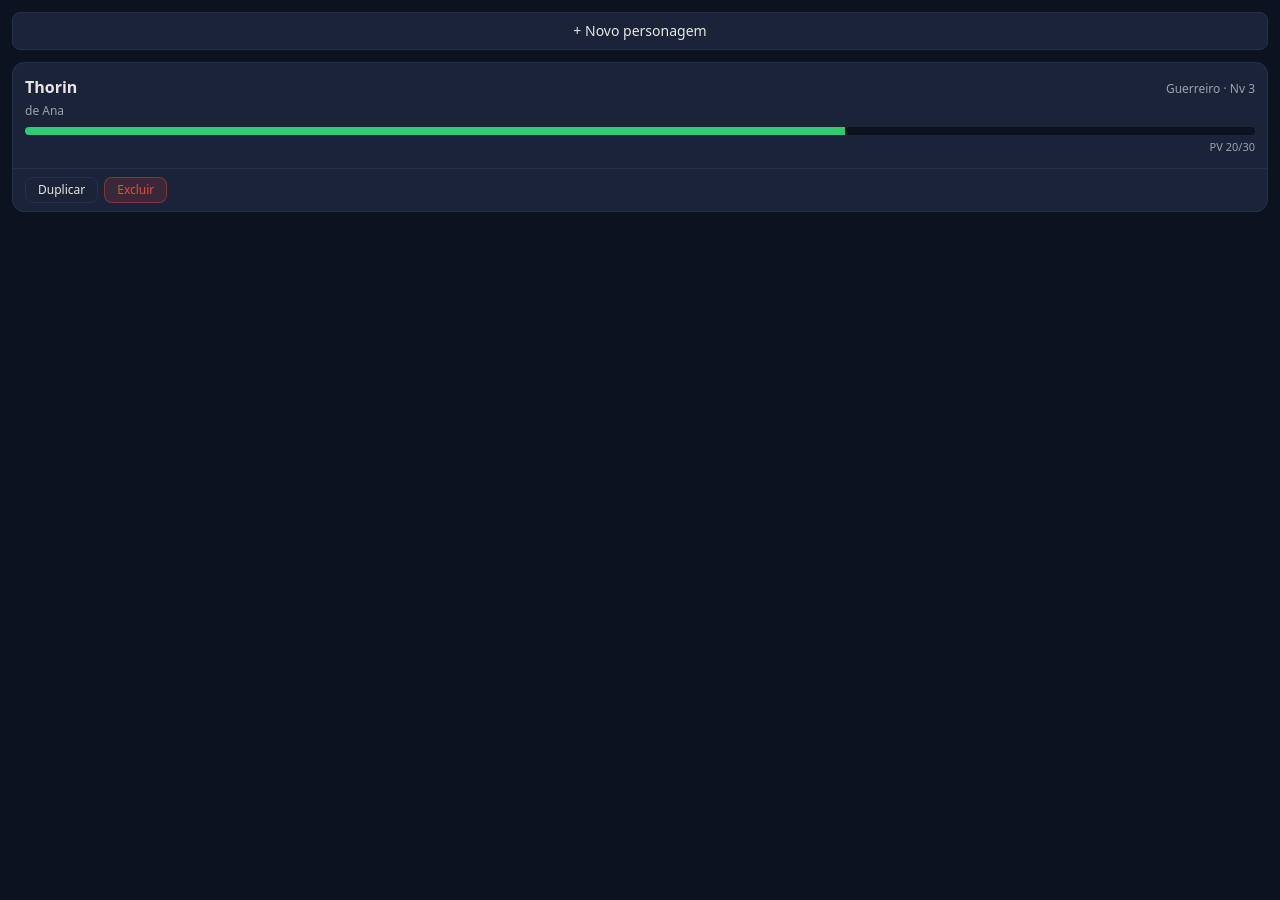
exclusão pede confirmação em diálogo acessível (RV-093) › o diálogo é modal, recebe o foco e não envia nada enquanto não se confirma
The width and height of the screenshot is (1280, 900).
Check: the text "Thorin" is shown, box left=25, top=75, right=77, bottom=99
Click the button with aria-label "Excluir Thorin" at [136, 190], box left=104, top=176, right=167, bottom=202
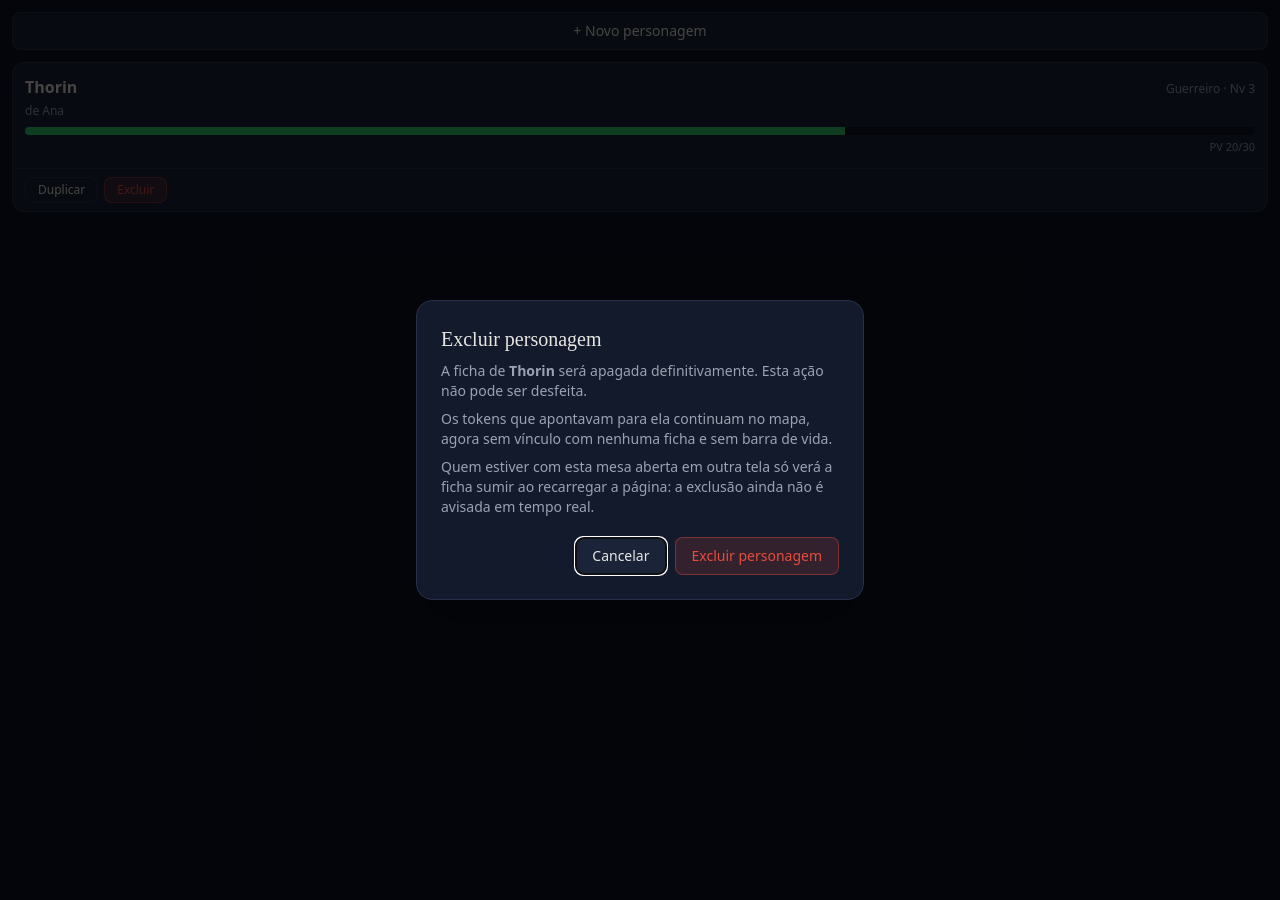
Check: the dialog shows "Excluir personagem", box left=441, top=328, right=602, bottom=350
